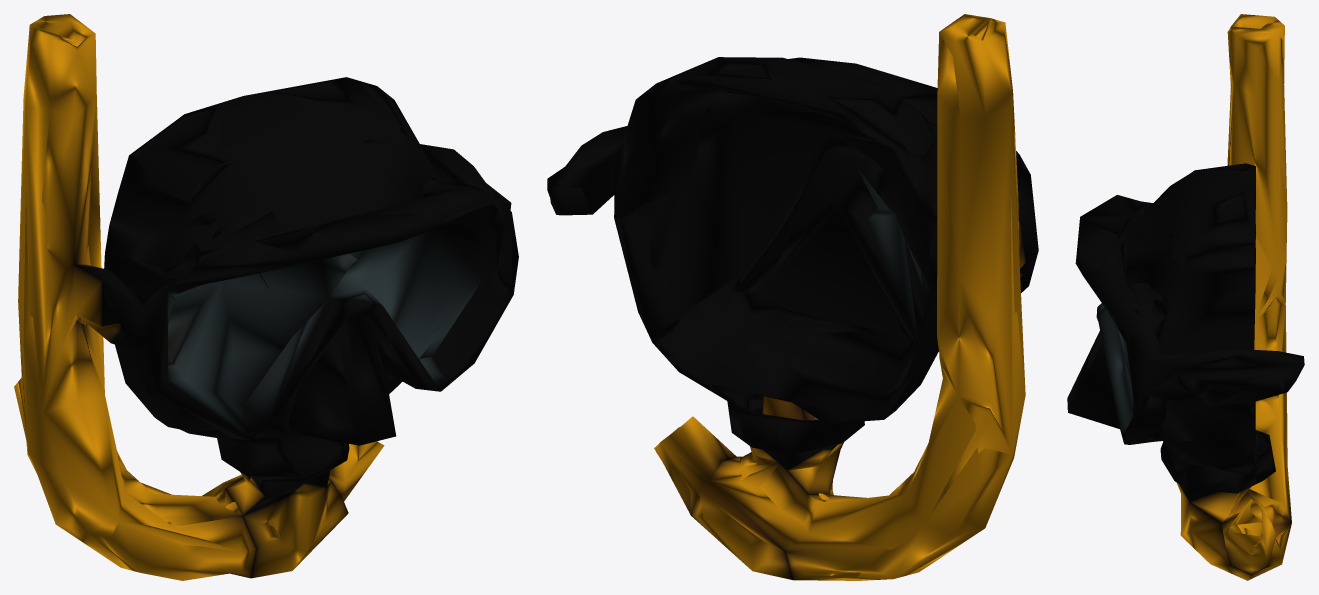
Rendered from gen3d-snorkel-mask-lod1.glb.
3 views of the same model, side by side, from view 1: azimuth 30°, elevation 25°; view 2: azimuth 150°, elevation 25°; view 3: azimuth 270°, elevation 25° (orthographic). The views are drawn at different scales.
Parts seen in each view (by area): view 1: part_0; view 2: part_0; view 3: part_0.
Part boxes in pixels (x1=…): part_0: x1=14, y1=14, x2=518, y2=580; part_0: x1=547, y1=14, x2=1038, y2=580; part_0: x1=1067, y1=14, x2=1304, y2=580.
Size of the model in its own units: 0.7817 by 0.9981 by 0.4498.
